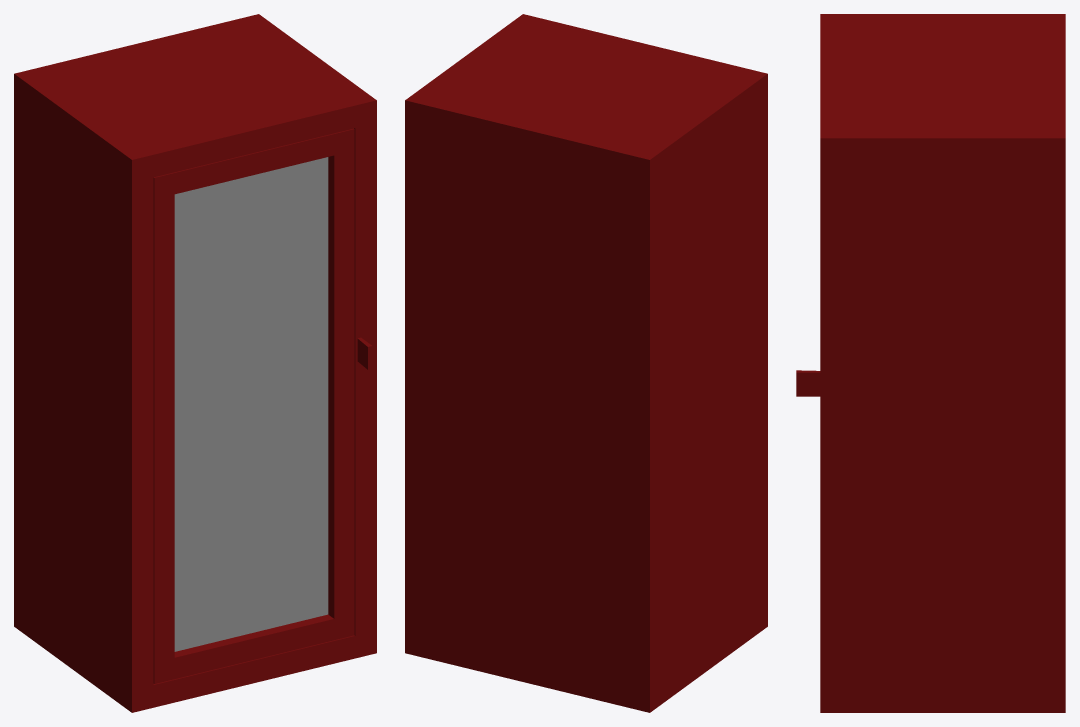
File: Extinguisher_Box.FBX
3 renders of one model, left to right at view 1: azimuth 30°, elevation 25°; view 2: azimuth 150°, elevation 25°; view 3: azimuth 270°, elevation 25°, orthographic. The views are drawn at different scales.
Parts seen in each view (by area): view 1: Box, Door; view 2: Box; view 3: Box.
Part boxes in pixels (<box>): Box: <box>14,14,376,712</box>; Door: <box>153,128,354,683</box>; Box: <box>405,14,767,712</box>; Box: <box>796,14,1065,712</box>.
Bounding box in the file's own units: 14.52 × 31.35 × 13.3.
